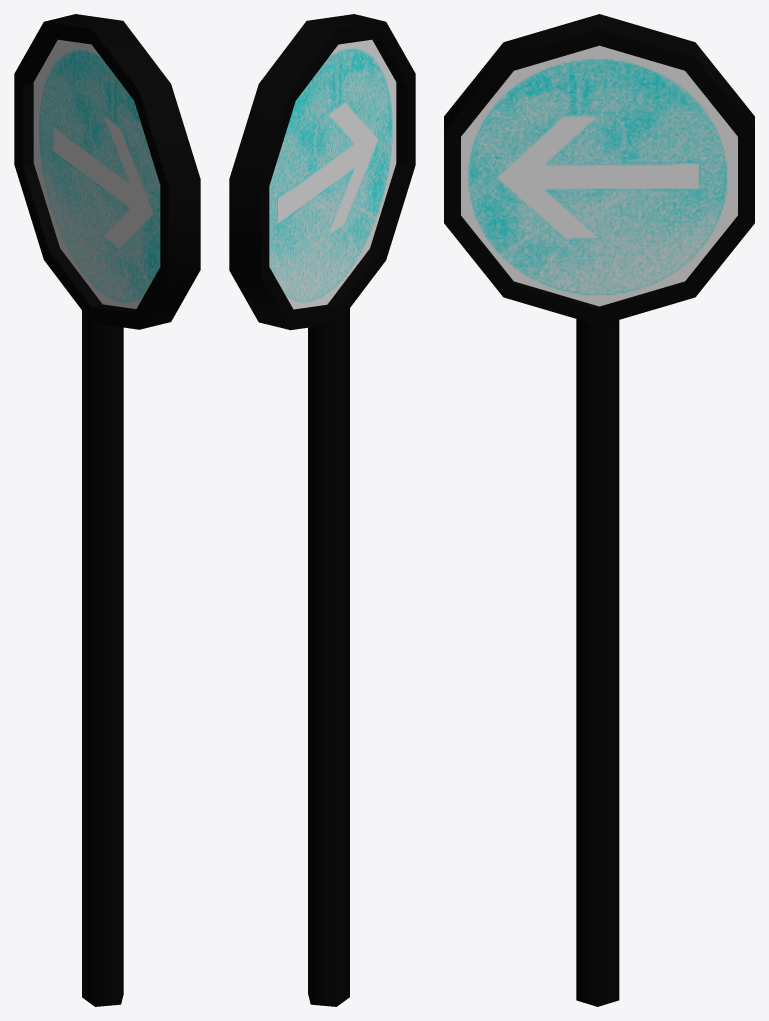
The model's file is sign27.FBX.
3 views of the same model, side by side, from view 1: azimuth 30°, elevation 25°; view 2: azimuth 150°, elevation 25°; view 3: azimuth 270°, elevation 25° (orthographic).
Parts seen in each view (by area): view 1: Cylinder002; view 2: Cylinder002; view 3: Cylinder002.
Boxes of the visible parts, x1=… form: Cylinder002: x1=14, y1=14, x2=200, y2=1006; Cylinder002: x1=229, y1=14, x2=415, y2=1006; Cylinder002: x1=444, y1=14, x2=754, y2=1006.
Size of the model in its own units: 3.3 by 85.76 by 24.7.
